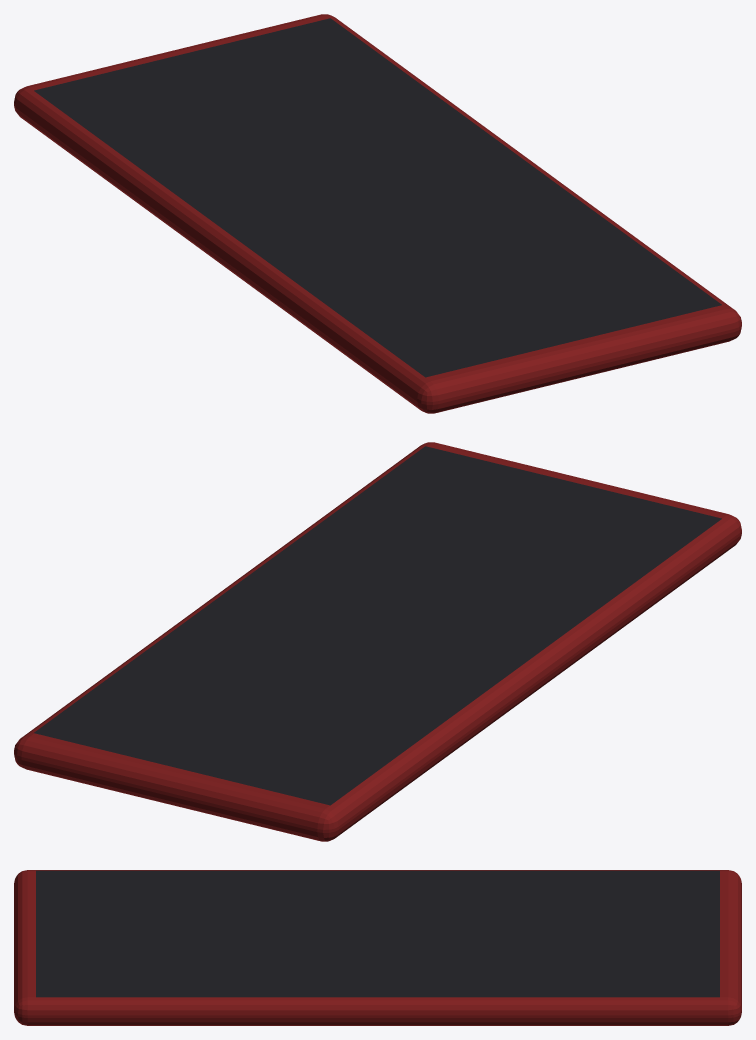
File: Phone_744.glb
3 renders of one model, top to bottom at view 1: azimuth 30°, elevation 25°; view 2: azimuth 150°, elevation 25°; view 3: azimuth 270°, elevation 25°, orthographic. The views are drawn at different scales.
Parts seen in each view (by area): view 1: Phone_Screen, Phone_Body; view 2: Phone_Screen, Phone_Body; view 3: Phone_Screen, Phone_Body.
Boxes of the visible parts, left/top/right/bottom form: Phone_Screen: left=34, top=18, right=721, bottom=377; Phone_Body: left=14, top=14, right=741, bottom=413; Phone_Screen: left=34, top=446, right=721, bottom=805; Phone_Body: left=14, top=442, right=741, bottom=841; Phone_Screen: left=36, top=870, right=719, bottom=997; Phone_Body: left=14, top=870, right=741, bottom=1025.
Size of the model in its own units: 0.0754 by 0.0071 by 0.1687.
